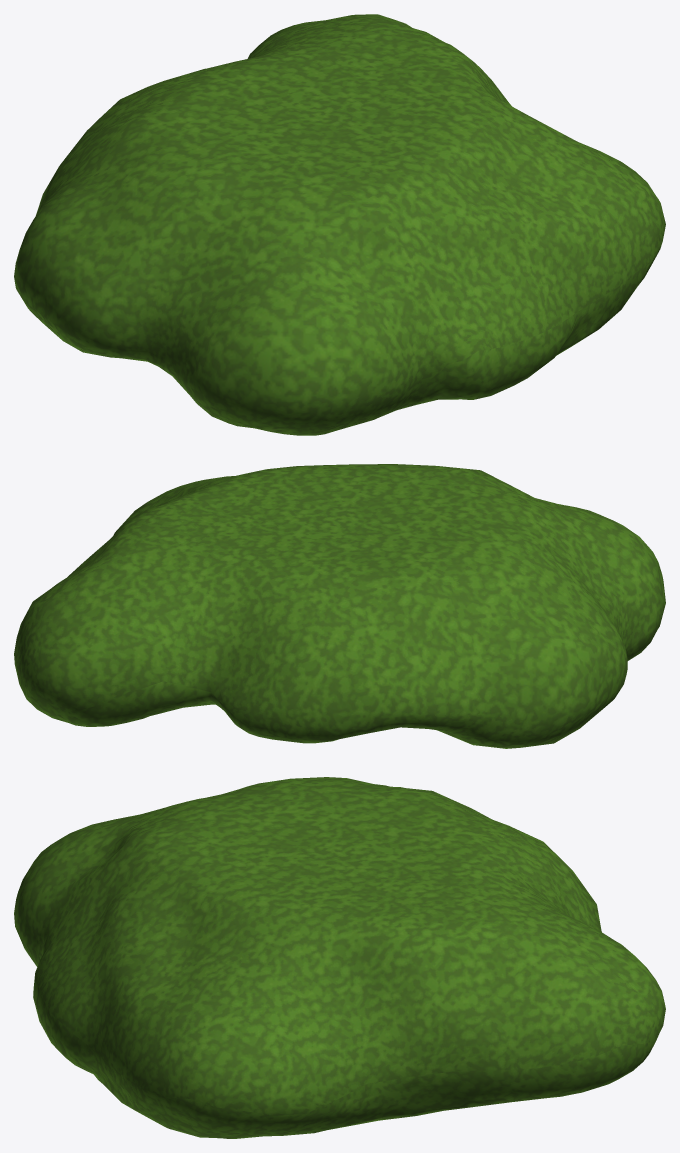
Rendered from Treetop.fbx.
3 renders of one model, top to bottom at view 1: azimuth 30°, elevation 25°; view 2: azimuth 150°, elevation 25°; view 3: azimuth 270°, elevation 25°, orthographic. The views are drawn at different scales.
Visible parts, largest first — view 1: Mesh; view 2: Mesh; view 3: Mesh.
Boxes of the visible parts, bbox=[...] form: Mesh: bbox=[14, 14, 665, 435]; Mesh: bbox=[14, 464, 665, 748]; Mesh: bbox=[14, 777, 665, 1138].
Bounding box in the file's own units: 13.91 × 4.68 × 14.17.
